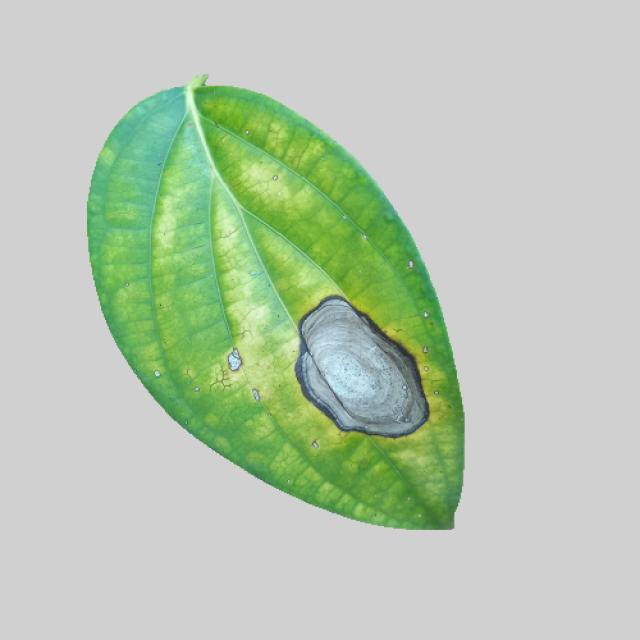leaf-blight: (77, 76, 467, 526)
